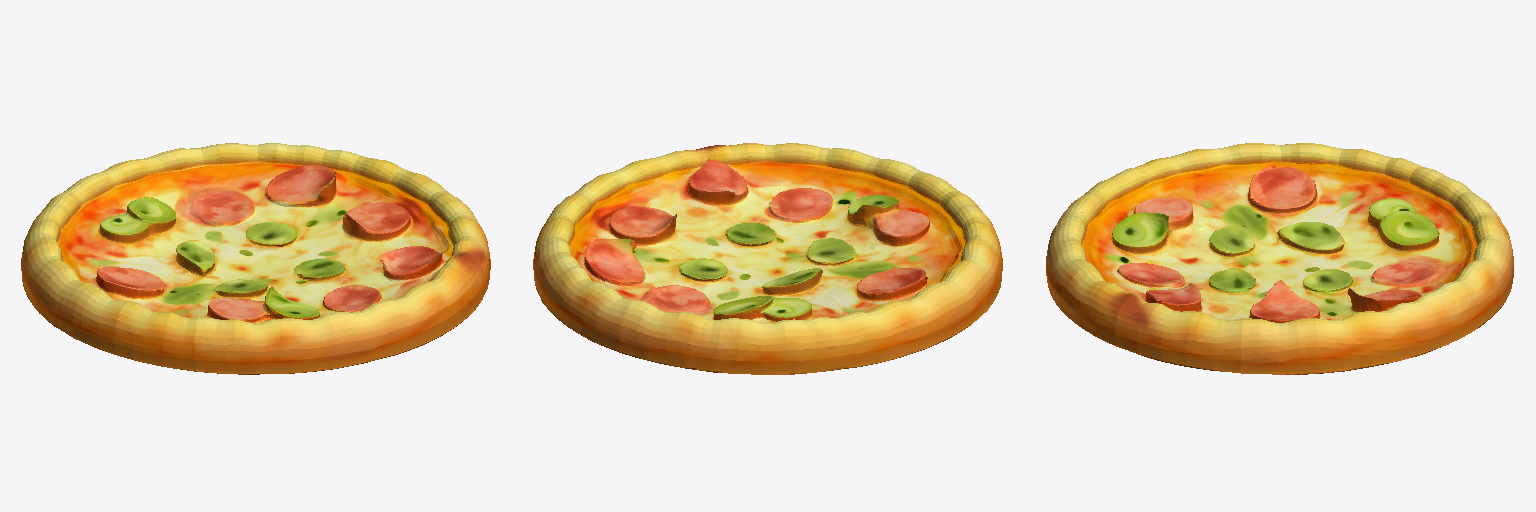
The picture shows the model from 3 angles: view 1: azimuth 30°, elevation 25°; view 2: azimuth 150°, elevation 25°; view 3: azimuth 270°, elevation 25°; orthographic projection.
Bounding box in the file's own units: 1.9 × 0.2137 × 1.89.
Materials: 1 (1 with a texture image).